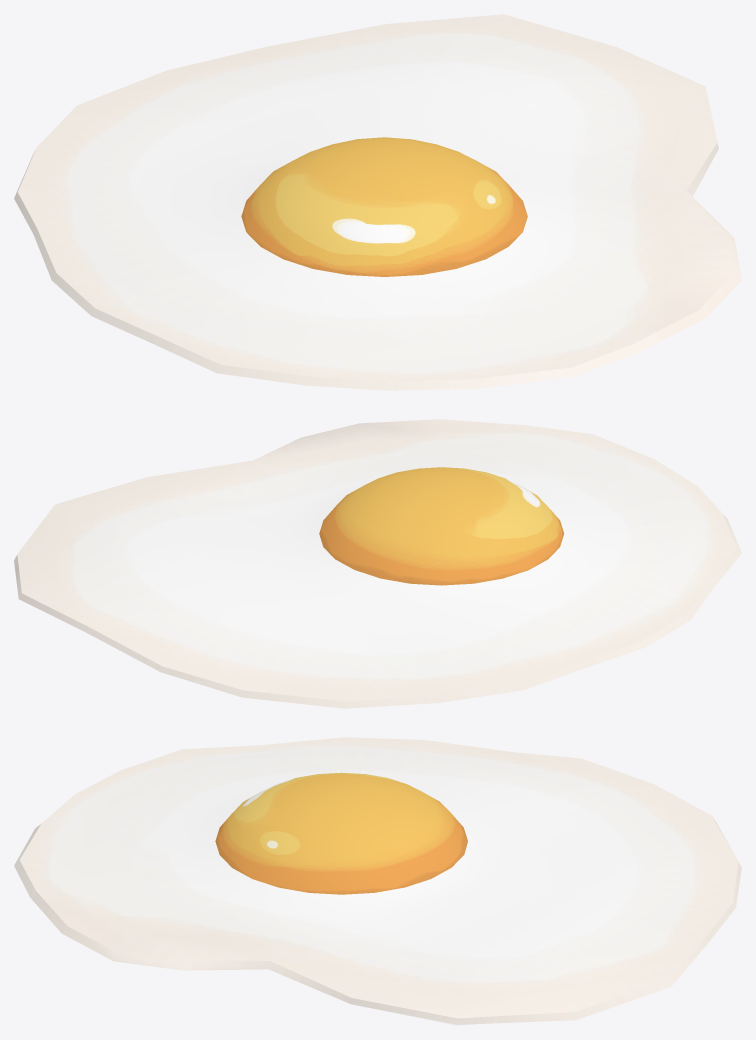
Rendered from egg.glb.
3 views of the same model, one above another, from view 1: azimuth 30°, elevation 25°; view 2: azimuth 150°, elevation 25°; view 3: azimuth 270°, elevation 25° (orthographic). The views are drawn at different scales.
Visible parts, largest first — view 1: 球体; view 2: 球体; view 3: 球体.
Boxes of the visible parts, box(x1,y1,x2,y2) form: 球体: box(14, 14, 741, 390); 球体: box(14, 419, 741, 708); 球体: box(14, 737, 741, 1025).
Size of the model in its own units: 5.29 by 0.6794 by 5.57.
Materials: 1 (1 with a texture image).
